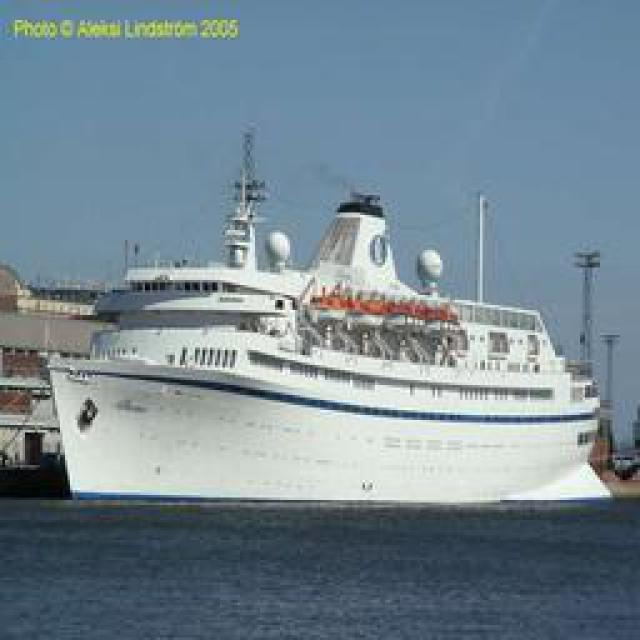Ship: (54, 150, 609, 493)
